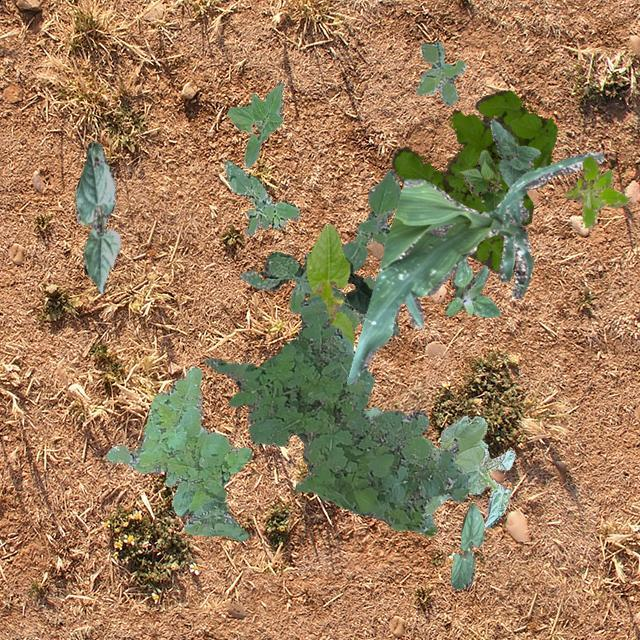crop: (347, 150, 602, 384), (362, 406, 514, 526), (74, 140, 120, 292), (306, 222, 354, 346), (226, 80, 282, 166), (490, 118, 540, 186), (449, 502, 484, 588), (458, 148, 504, 212), (346, 260, 372, 312)
weed: (204, 294, 468, 536), (392, 90, 556, 272), (238, 170, 400, 336), (106, 366, 250, 540), (223, 160, 300, 236), (564, 154, 628, 228), (444, 256, 500, 316), (414, 40, 466, 104)
